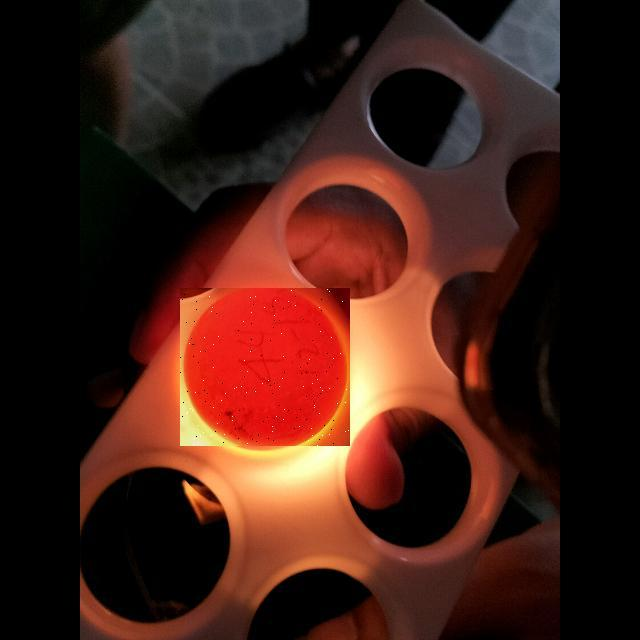Infertile: (180, 288, 350, 446)
